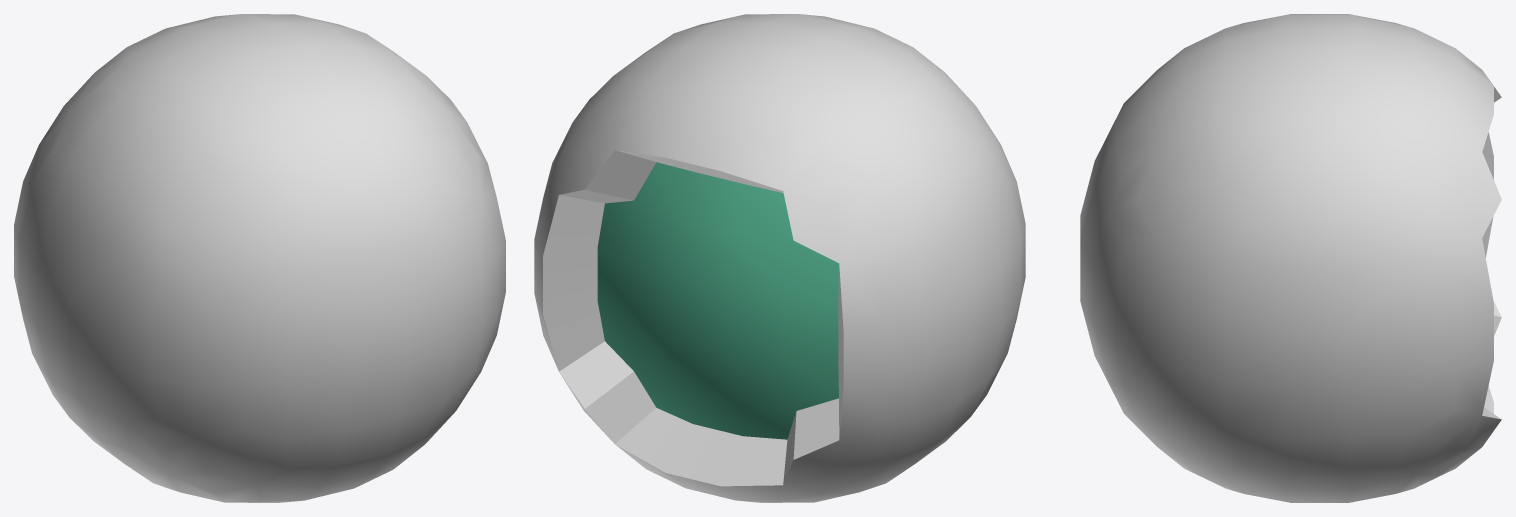
The model's file is ship1.fbx.
The picture shows the model from 3 angles, left to right: view 1: azimuth 30°, elevation 25°; view 2: azimuth 150°, elevation 25°; view 3: azimuth 270°, elevation 25°; orthographic projection.
Visible parts, largest first — view 1: Sphere; view 2: Sphere, Sphere.001; view 3: Sphere.
Boxes of the visible parts, box(x1,y1,x2,y2) form: Sphere: box(14, 14, 505, 502); Sphere: box(534, 14, 1025, 502); Sphere.001: box(597, 162, 838, 439); Sphere: box(1080, 14, 1501, 502).
Size of the model in its own units: 90.13 by 90.34 by 84.37.
